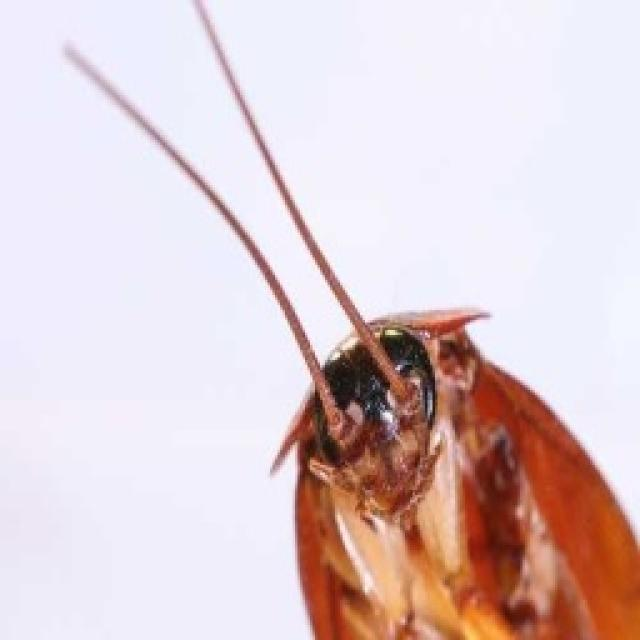cockroach: (196, 212, 640, 639)
